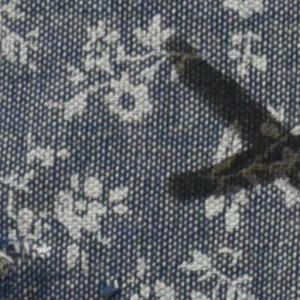Damage: (1, 225, 52, 294), (91, 276, 129, 300)
Stain: (161, 32, 300, 205)
